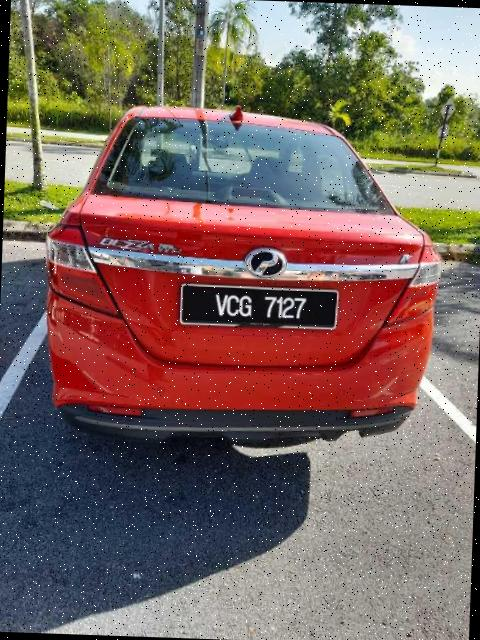License_Plate: (179, 283, 340, 332)
car: (39, 99, 449, 457)
